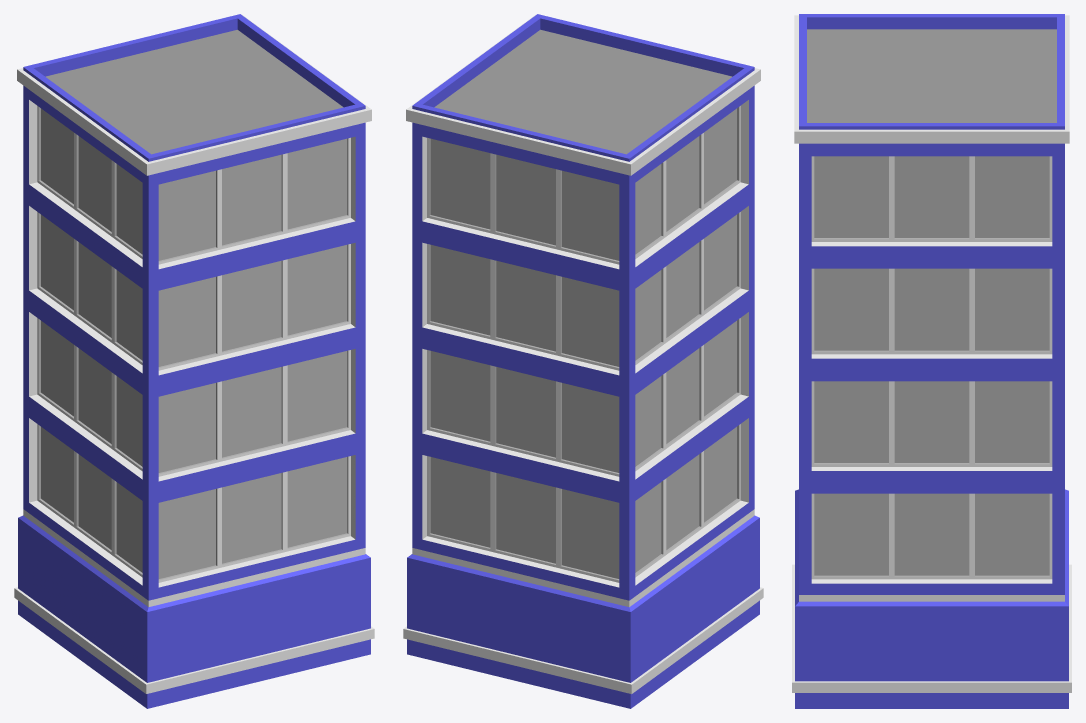
Rendered from SM_House_05_03.FBX.
3 renders of one model, left to right at view 1: azimuth 30°, elevation 25°; view 2: azimuth 150°, elevation 25°; view 3: azimuth 270°, elevation 25°, orthographic. The views are drawn at different scales.
Visible parts, largest first — view 1: SM_House_05_03; view 2: SM_House_05_03; view 3: SM_House_05_03.
Part boxes in pixels (x1=…): SM_House_05_03: x1=14, y1=14, x2=374, y2=708; SM_House_05_03: x1=403, y1=14, x2=763, y2=708; SM_House_05_03: x1=792, y1=14, x2=1071, y2=708.
Size of the model in its own units: 3.16 by 7.23 by 3.16.
1 material, 1 textured.
